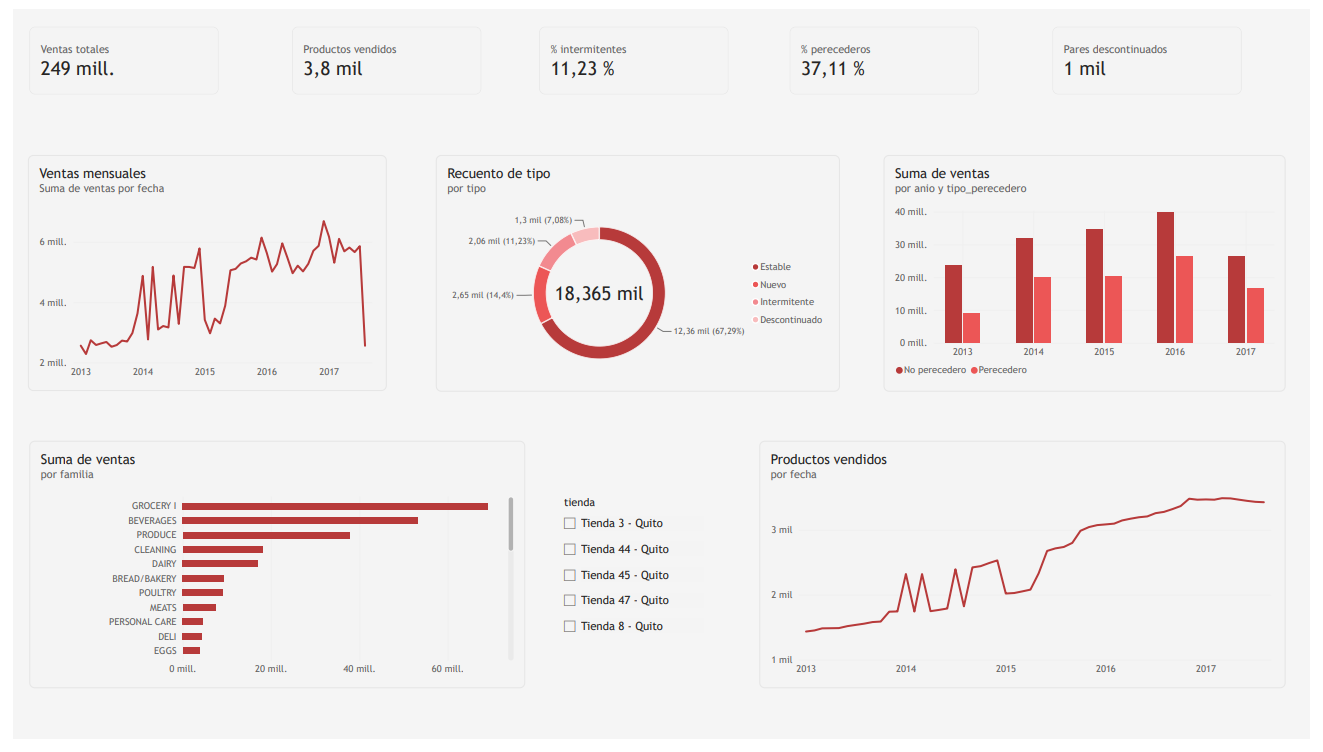

This screenshot's page, from the dashboard's own definition file:
{"tool":"powerbi","page":{"name":"Página 1","canvas":[1920,1080],"ordinal":0},"visuals":[{"type":"cardVisual","fields":{"Data":["ventas_producto_mes.Ventas totales"]},"box":[23.7,26.3,280.6,100],"z":0},{"type":"cardVisual","fields":{"Data":["ventas_producto_mes.% intermitentes"]},"box":[778.9,26.3,280.6,100],"z":1000},{"type":"lineChart","title":"Ventas mensuales","fields":{"Category":["ventas_mensuales.fecha"],"Y":["Sum(ventas_mensuales.ventas)"]},"box":[22.4,216.3,530.6,349],"z":2000},{"type":"slicer","fields":{"Values":["stores.tienda"]},"box":[807.8,721.4,213.8,239.8],"z":3000},{"type":"clusteredBarChart","fields":{"Category":["ventas_producto_mes.familia"],"Y":["Sum(ventas_producto_mes.ventas)"]},"box":[23.7,639.5,734.2,365.8],"z":4000},{"type":"donutChart","fields":{"Category":["productos.tipo"],"Y":["CountNonNull(productos.tipo)"]},"box":[626.3,215.8,597.4,350],"z":5000},{"type":"lineChart","fields":{"Category":["ventas_producto_mes.fecha"],"Y":["ventas_producto_mes.Productos vendidos"]},"box":[1105.3,639.5,778.9,365.8],"z":6000},{"type":"clusteredColumnChart","fields":{"Category":["ventas_producto_mes.anio"],"Series":["ventas_producto_mes.tipo_perecedero"],"Y":["Sum(ventas_producto_mes.ventas)"]},"box":[1289.5,215.8,594.7,350],"z":7000},{"type":"cardVisual","fields":{"Data":["ventas_producto_mes.% perecederos"]},"box":[1150,26.3,280.6,100],"z":8000},{"type":"cardVisual","fields":{"Data":["productos.Pares descontinuados"]},"box":[1539.5,26.3,280.6,100],"z":9000},{"type":"cardVisual","fields":{"Data":["ventas_producto_mes.Productos vendidos"]},"box":[412.8,25.5,280.6,100],"z":9001}]}

Visuals, with their boxes in screenshot pixels (x1, y1, x2, y2), scaled from the page's 1920x1080 canvas onto the 1323x752 screenshot:
cardVisual - ventas_producto_mes.Ventas totales: x1=16 y1=18 x2=210 y2=88
cardVisual - ventas_producto_mes.% intermitentes: x1=537 y1=18 x2=730 y2=88
"Ventas mensuales" lineChart: x1=15 y1=151 x2=381 y2=394
slicer - stores.tienda: x1=557 y1=502 x2=704 y2=669
clusteredBarChart - ventas_producto_mes.familia x Sum(ventas_producto_mes.ventas): x1=16 y1=445 x2=522 y2=700
donutChart - productos.tipo x CountNonNull(productos.tipo): x1=432 y1=150 x2=843 y2=394
lineChart - ventas_producto_mes.fecha x ventas_producto_mes.Productos vendidos: x1=762 y1=445 x2=1298 y2=700
clusteredColumnChart - ventas_producto_mes.anio x ventas_producto_mes.tipo_perecedero: x1=889 y1=150 x2=1298 y2=394
cardVisual - ventas_producto_mes.% perecederos: x1=792 y1=18 x2=986 y2=88
cardVisual - productos.Pares descontinuados: x1=1061 y1=18 x2=1254 y2=88
cardVisual - ventas_producto_mes.Productos vendidos: x1=284 y1=18 x2=478 y2=87
